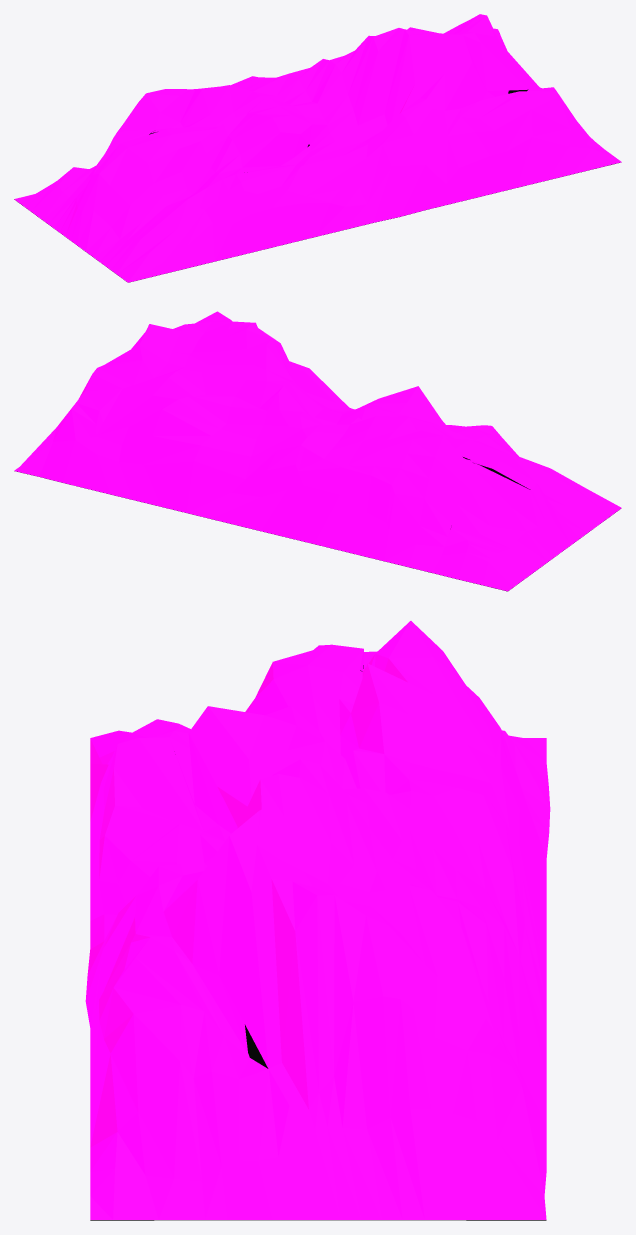
The model's file is Mountain_Lo_03.FBX.
3 views of the same model, one above another, from view 1: azimuth 30°, elevation 25°; view 2: azimuth 150°, elevation 25°; view 3: azimuth 270°, elevation 25° (orthographic). The views are drawn at different scales.
Visible parts, largest first — view 1: Plane003; view 2: Plane003, Plane004; view 3: Plane003.
Part boxes in pixels (bbox=[...]): Plane003: bbox=[14, 14, 621, 282]; Plane003: bbox=[14, 311, 621, 591]; Plane004: bbox=[14, 457, 618, 591]; Plane003: bbox=[85, 621, 550, 1219].
Bounding box in the file's own units: 1001 × 272 × 407.
